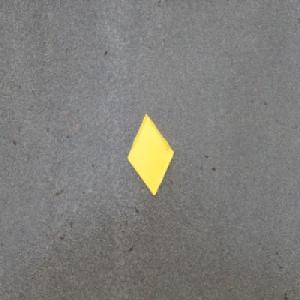PlasticPart: (127, 111, 174, 197)
